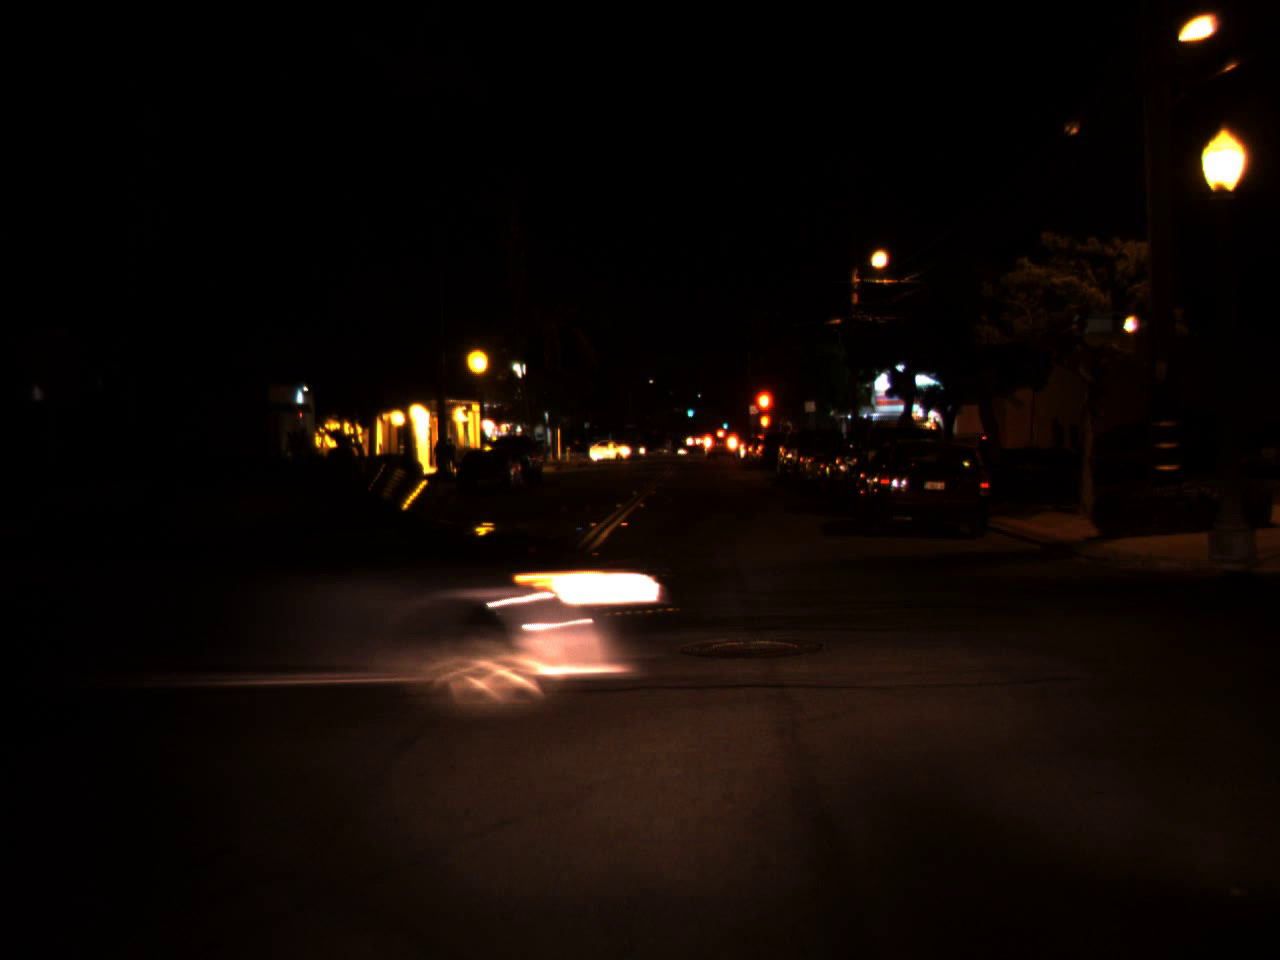go: (685, 402, 694, 417), (721, 418, 728, 430)
stop: (752, 387, 776, 435)
